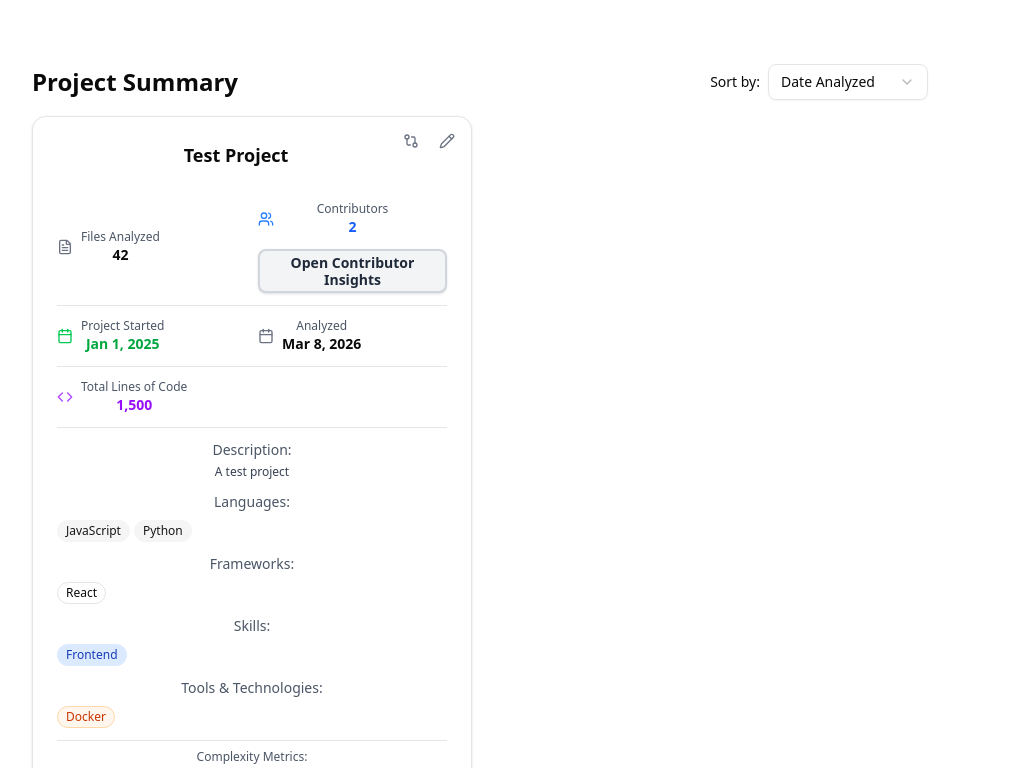
it: ProjectSummary › shows error message when contributor fetch fails
Step 1. Click the text "2" → (352, 226), box [348,217,356,236]
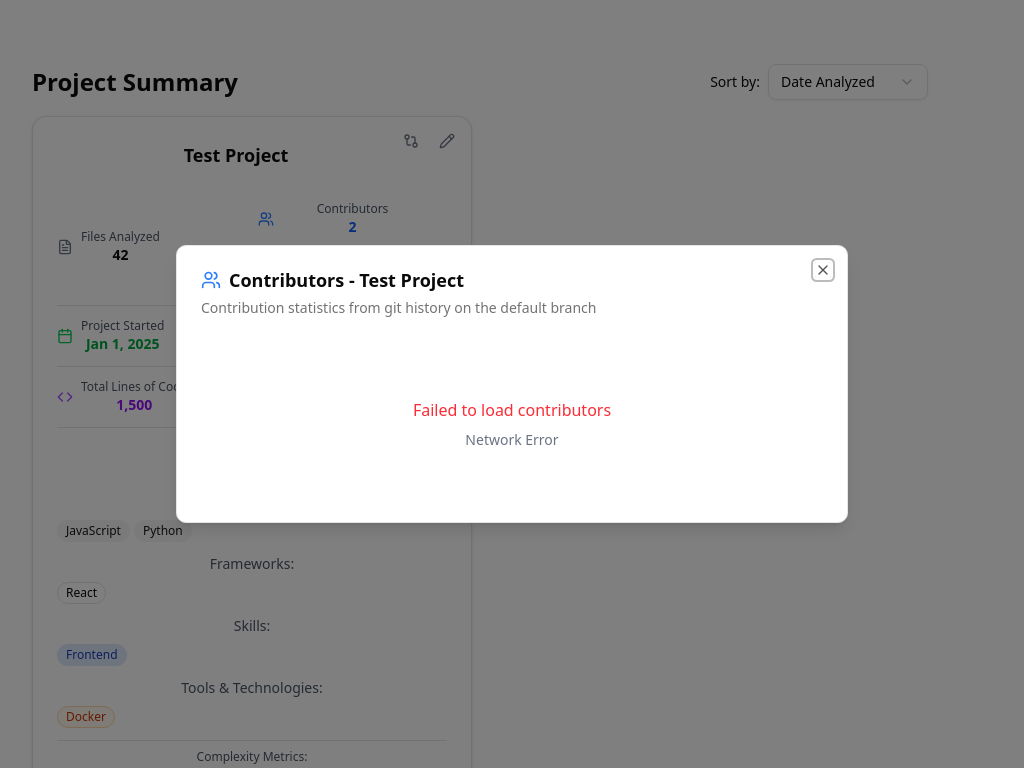
Now the text "Failed to load contributors" is shown, box [413,399,611,421]
